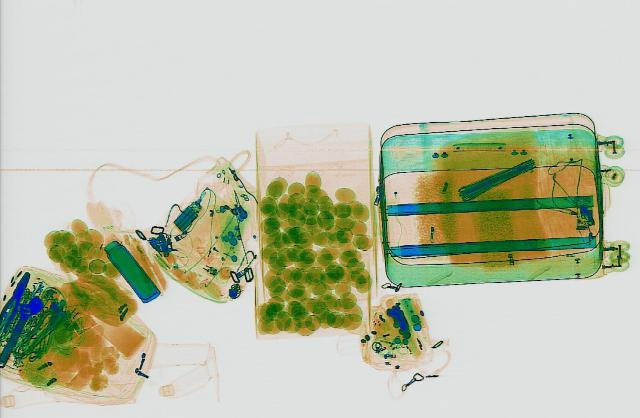Pliers: (0, 269, 38, 312)
Wrench: (0, 300, 36, 351)
